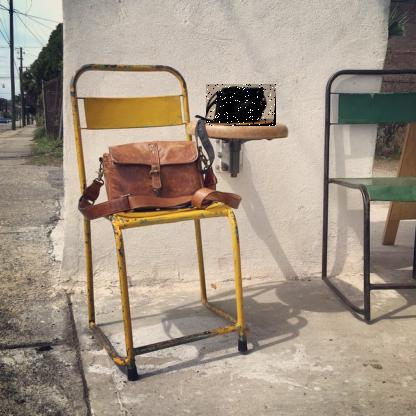Camera: (207, 85, 278, 128)
